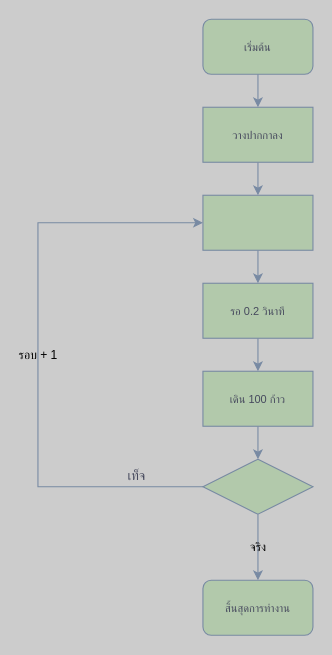
The diagram is 332 pixels wide and 655 high, and some of its shapes have lost their labels. Here are the shapes that lost their labels. From the top down, the centre of each, then its label:
pixel 257 222: หมุนตามเข็ม 90 องศา
pixel 257 486: ทำซ้ำถึง 4 รอบยัง
